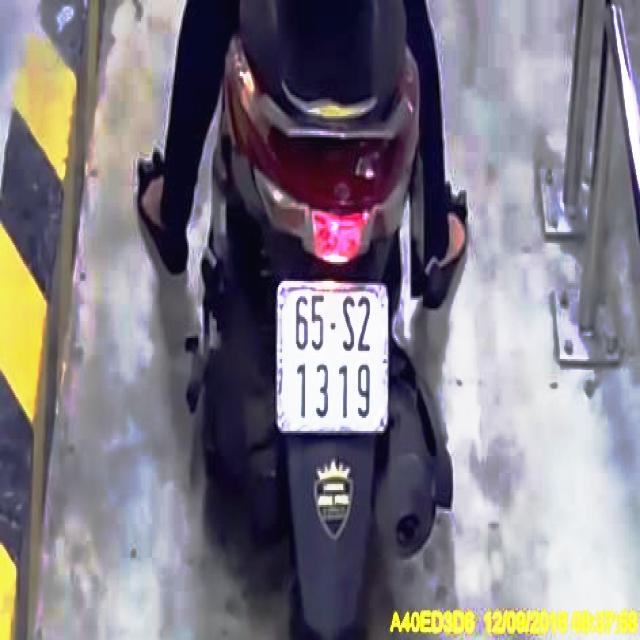license_plate: (277, 281, 390, 434)
